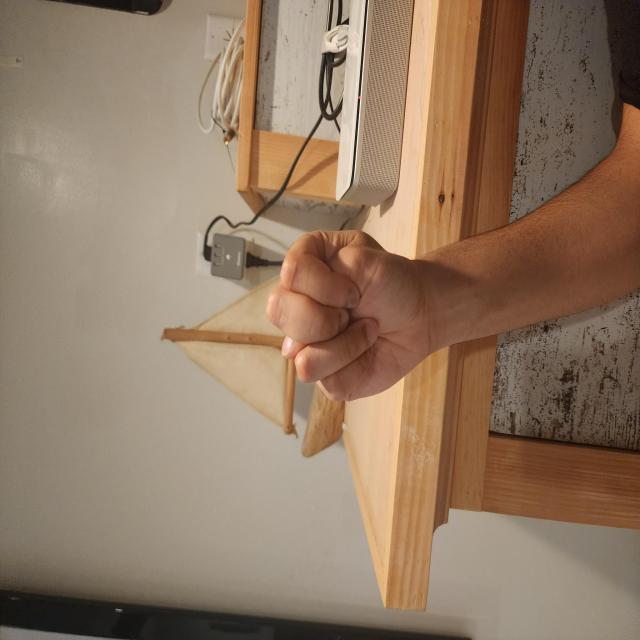N: (176, 348, 310, 582)
